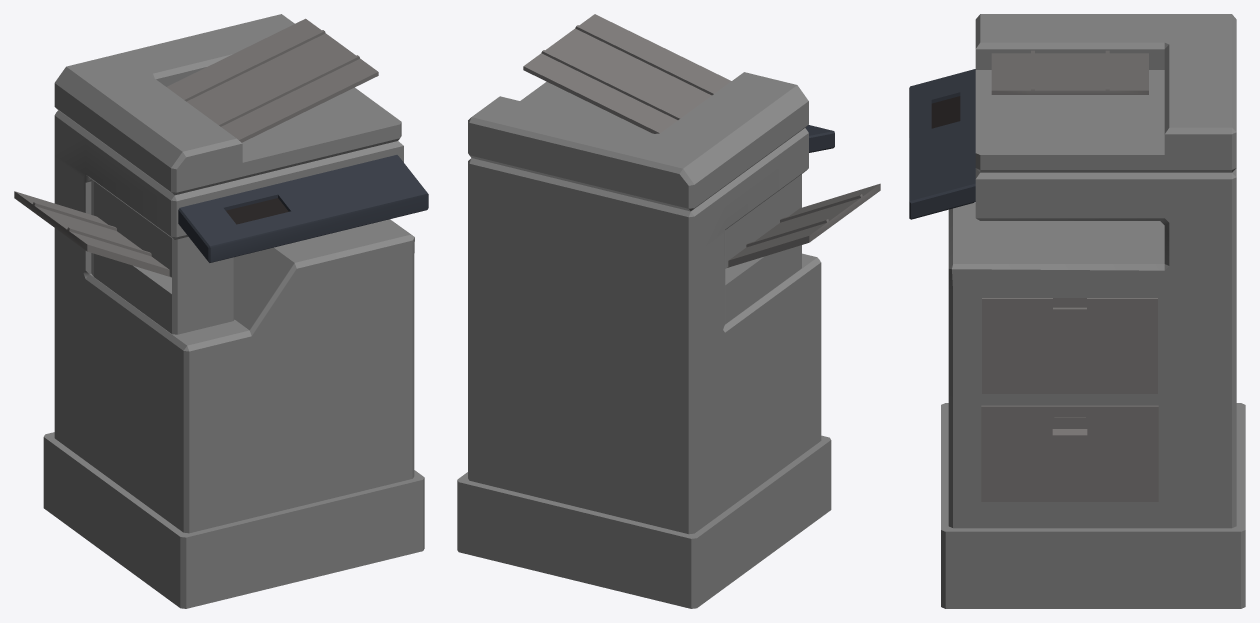
Rendered from photocopier.FBX.
3 renders of one model, left to right at view 1: azimuth 30°, elevation 25°; view 2: azimuth 150°, elevation 25°; view 3: azimuth 270°, elevation 25°, orthographic. The views are drawn at different scales.
Parts seen in each view (by area): view 1: photocopier1, photocopier; view 2: photocopier1, photocopier; view 3: photocopier1, photocopier, drawer2, drawer1.
Boxes of the visible parts, box(x1,y1,x2,y2) form: photocopier1: box(14, 110, 428, 608); photocopier: box(54, 14, 401, 195); photocopier1: box(457, 125, 880, 608); photocopier: box(468, 14, 808, 211); photocopier1: box(909, 69, 1245, 608); photocopier: box(975, 14, 1236, 172); drawer2: box(981, 405, 1158, 501); drawer1: box(982, 298, 1157, 393).
Size of the model in its own units: 114 by 162 by 97.43.
